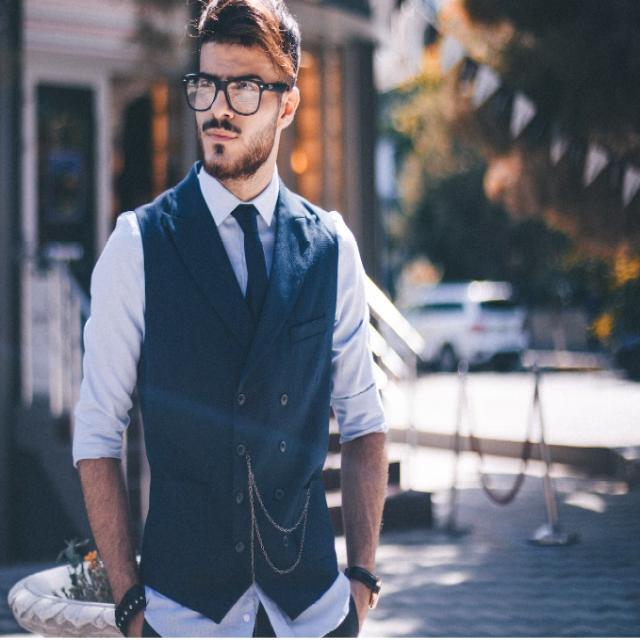Watch: (342, 556, 389, 610)
